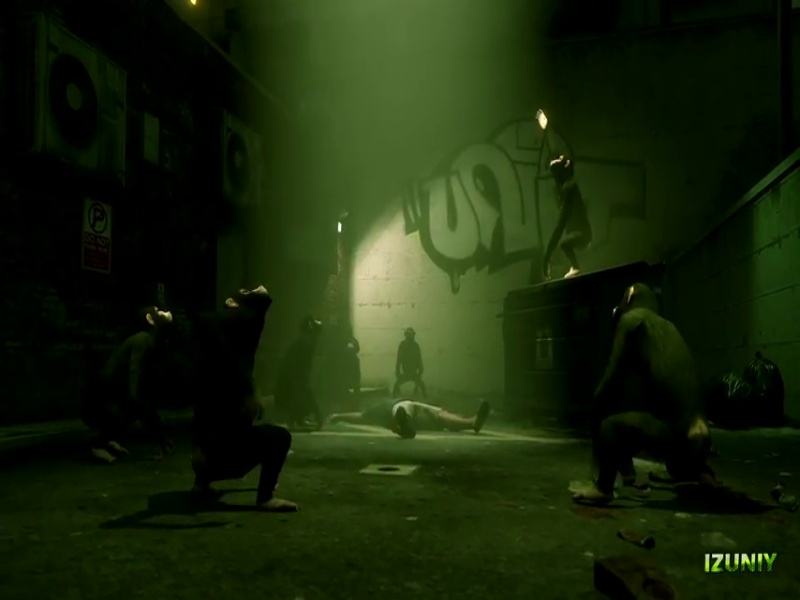human: (122, 285, 295, 520)
